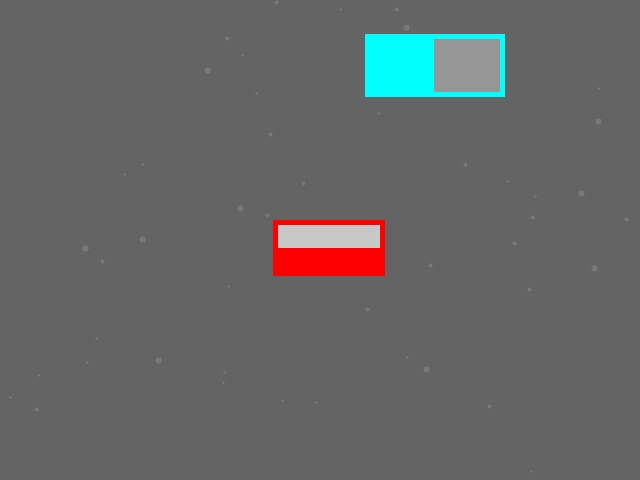car: (273, 220, 384, 275)
truck: (365, 34, 504, 96)
